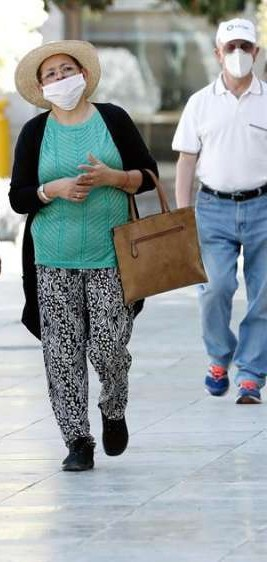with_mask: (30, 47, 93, 112), (215, 20, 266, 88)
